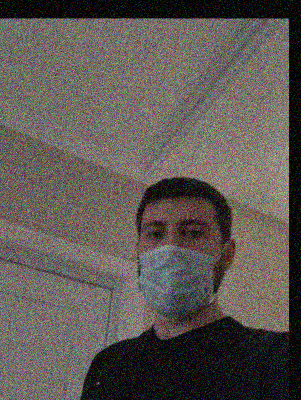with_mask: (137, 212, 220, 320)
